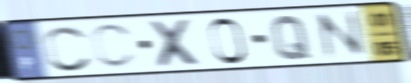0: (207, 15, 250, 66)
C: (42, 24, 95, 74), (89, 21, 138, 71)
N: (311, 7, 370, 62)
Q: (269, 14, 314, 62)
X: (145, 17, 208, 70)
